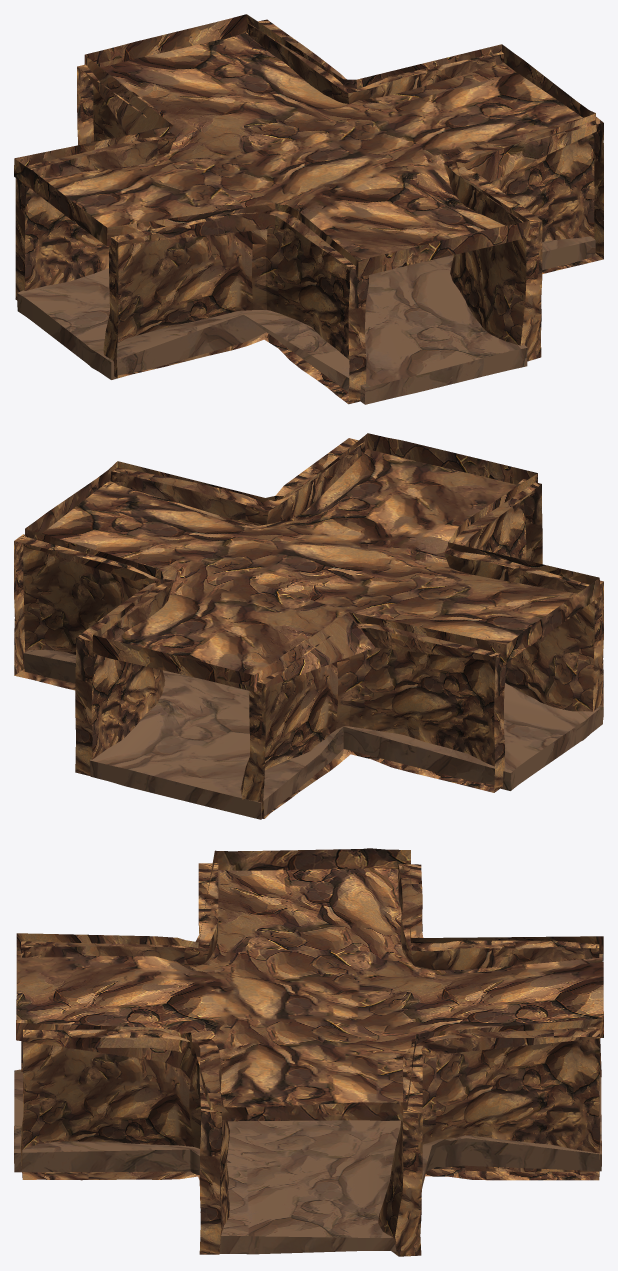
Rendered from Plus_Cave.fbx.
The picture shows the model from 3 angles, top to bottom: view 1: azimuth 30°, elevation 25°; view 2: azimuth 150°, elevation 25°; view 3: azimuth 270°, elevation 25°; orthographic projection. The views are drawn at different scales.
Parts seen in each view (by area): view 1: pCube14, pCube6, pCube13, pCube9, pCube12, pCube7; view 2: pCube14, pCube6, pCube12, pCube7, pCube13, pCube9; view 3: pCube14, pCube6, pCube7, pCube9, pCube12, pCube13.
Part boxes in pixels (x1=…): pCube14: x1=14, y1=14, x2=596, y2=277; pCube6: x1=17, y1=236, x2=595, y2=404; pCube13: x1=103, y1=208, x2=368, y2=404; pCube9: x1=443, y1=117, x2=603, y2=361; pCube12: x1=15, y1=64, x2=175, y2=300; pCube7: x1=248, y1=19, x2=503, y2=103; pCube14: x1=25, y1=433, x2=600, y2=691; pCube6: x1=24, y1=649, x2=603, y2=819; pCube12: x1=240, y1=623, x2=506, y2=818; pCube7: x1=14, y1=534, x2=173, y2=776; pCube13: x1=444, y1=479, x2=603, y2=716; pCube9: x1=110, y1=438, x2=364, y2=525; pCube14: x1=16, y1=848, x2=603, y2=1121; pCube6: x1=14, y1=1069, x2=601, y2=1254; pCube7: x1=378, y1=1027, x2=600, y2=1256; pCube9: x1=20, y1=1029, x2=230, y2=1254; pCube12: x1=397, y1=864, x2=601, y2=1077; pCube13: x1=21, y1=863, x2=218, y2=1071.
Size of the model in its own units: 30.41 by 9.17 by 30.04.
Materials: 3 (3 with a texture image).
